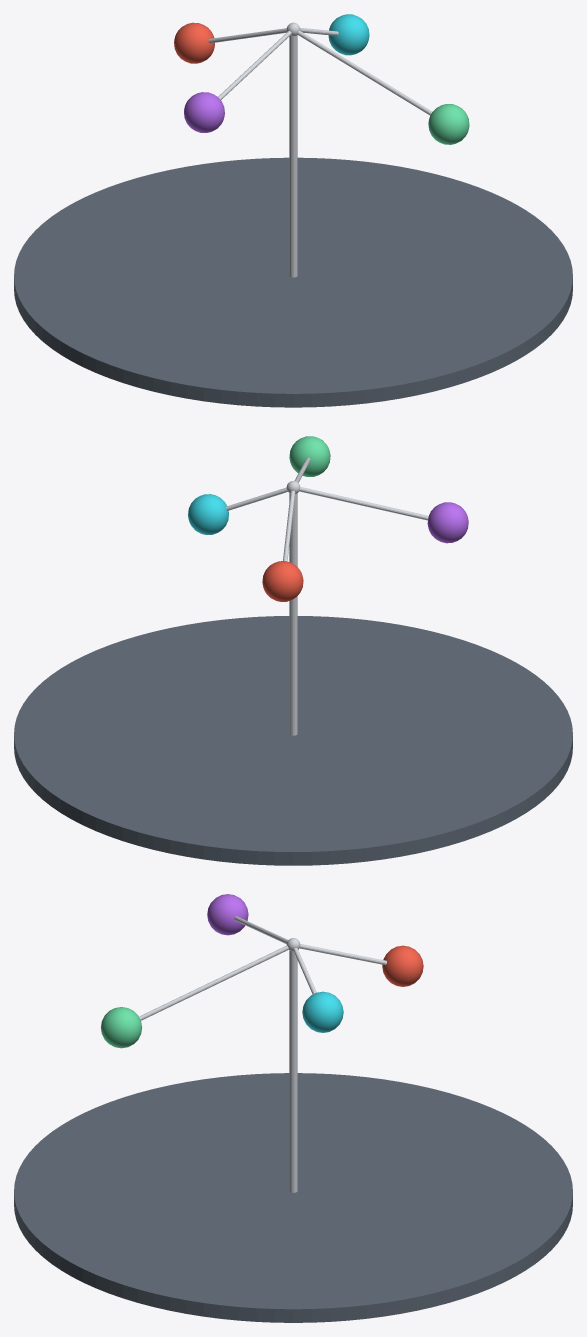
Rendered from Celestial.glb.
The picture shows the model from 3 angles, top to bottom: view 1: azimuth 30°, elevation 25°; view 2: azimuth 150°, elevation 25°; view 3: azimuth 270°, elevation 25°; orthographic projection.
Parts seen in each view (by area): view 1: CelestialDais.001, CelestialAnchor.001, CelestialJade.001, CelestialAmethyst.001, CelestialForge.001, CelestialAzure.001; view 2: CelestialDais.001, CelestialAmethyst.001, CelestialAnchor.001, CelestialForge.001, CelestialAzure.001, CelestialJade.001; view 3: CelestialDais.001, CelestialAnchor.001, CelestialJade.001, CelestialForge.001, CelestialAzure.001, CelestialAmethyst.001.
Part boxes in pixels (x1=…): CelestialDais.001: x1=14, y1=157, x2=572, y2=407; CelestialAnchor.001: x1=286, y1=22, x2=300, y2=277; CelestialJade.001: x1=297, y1=30, x2=469, y2=144; CelestialAmethyst.001: x1=184, y1=31, x2=291, y2=132; CelestialForge.001: x1=174, y1=22, x2=286, y2=63; CelestialAzure.001: x1=300, y1=14, x2=369, y2=55; CelestialDais.001: x1=14, y1=616, x2=572, y2=865; CelestialAmethyst.001: x1=299, y1=487, x2=468, y2=543; CelestialAnchor.001: x1=286, y1=481, x2=300, y2=735; CelestialForge.001: x1=262, y1=490, x2=303, y2=601; CelestialAzure.001: x1=188, y1=487, x2=287, y2=534; CelestialJade.001: x1=289, y1=436, x2=330, y2=482; CelestialDais.001: x1=14, y1=1073, x2=572, y2=1322; CelestialAnchor.001: x1=286, y1=938, x2=300, y2=1192; CelestialJade.001: x1=100, y1=945, x2=288, y2=1048; CelestialForge.001: x1=299, y1=944, x2=423, y2=986; CelestialAzure.001: x1=293, y1=948, x2=343, y2=1032; CelestialAmethyst.001: x1=207, y1=894, x2=288, y2=943.
Size of what is drawn, in the model's own units: 12.96 by 6.81 by 12.96.
